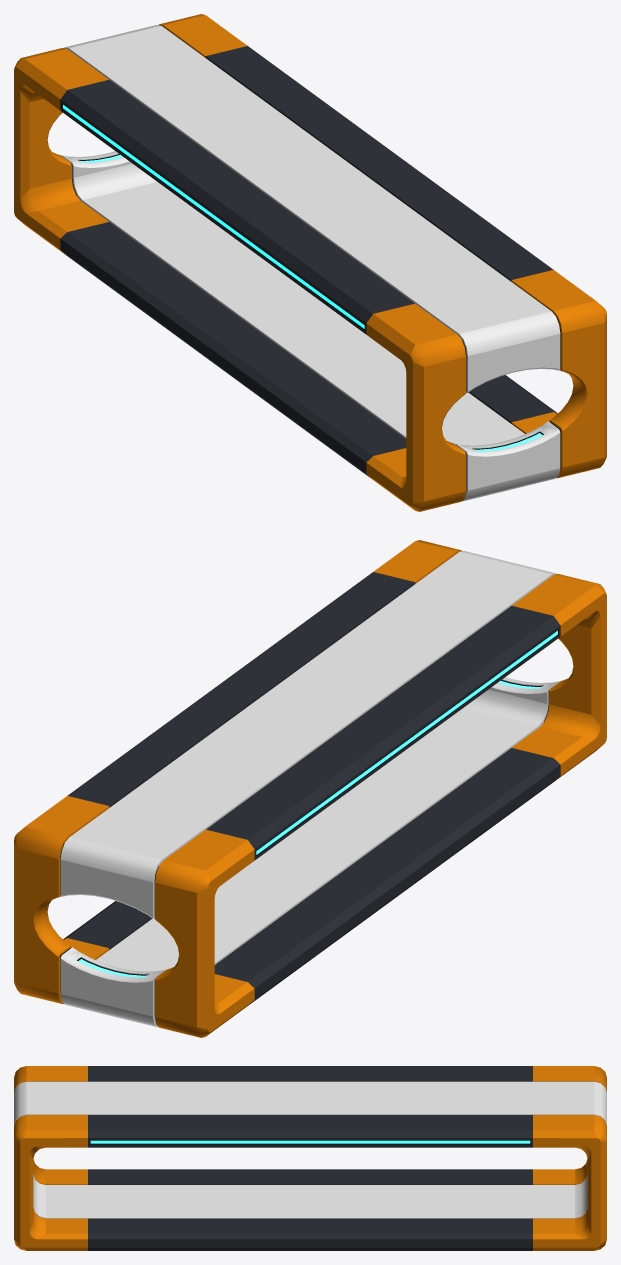
The model's file is bench.glb.
The picture shows the model from 3 angles, top to bottom: view 1: azimuth 30°, elevation 25°; view 2: azimuth 150°, elevation 25°; view 3: azimuth 270°, elevation 25°; orthographic projection. The views are drawn at different scales.
Parts seen in each view (by area): view 1: SM_Bench; view 2: SM_Bench; view 3: SM_Bench.
Part boxes in pixels (left/top/right/bottom): SM_Bench: left=14, top=14, right=606, bottom=511; SM_Bench: left=14, top=540, right=606, bottom=1037; SM_Bench: left=14, top=1066, right=606, bottom=1250.
Size of the model in its own units: 0.55 by 0.45 by 2.
